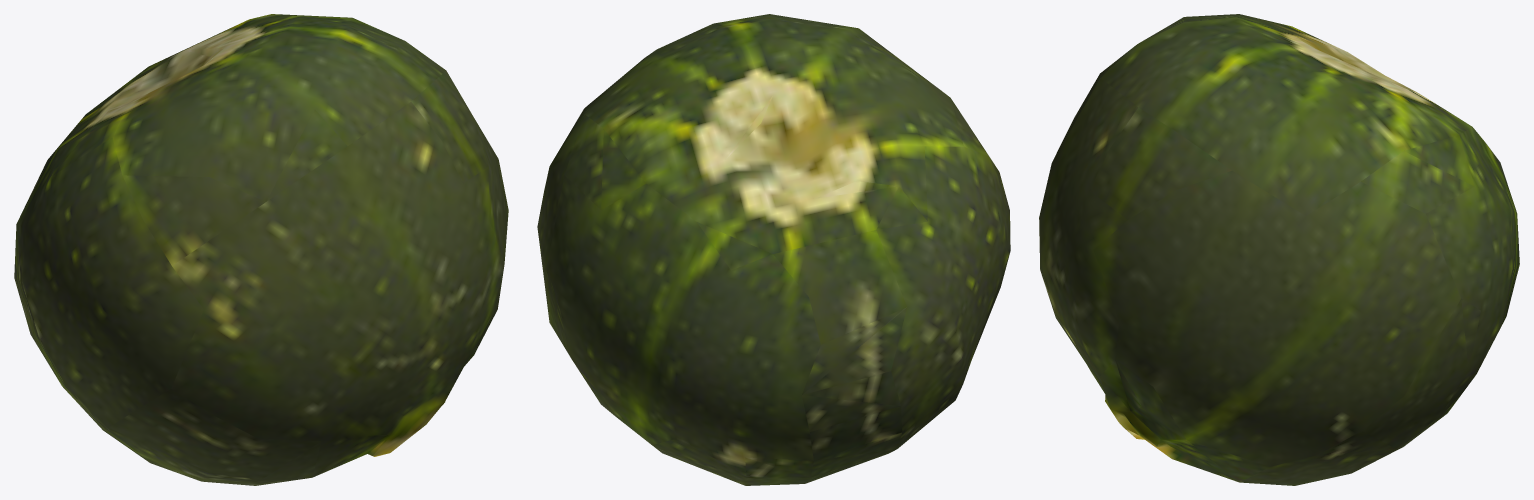
The model's file is SM_配餐室_水果蔬菜_23.fbx.
3 renders of one model, left to right at view 1: azimuth 30°, elevation 25°; view 2: azimuth 150°, elevation 25°; view 3: azimuth 270°, elevation 25°, orthographic. The views are drawn at different scales.
Visible parts, largest first — view 1: SM_配餐室_水果蔬菜_23; view 2: SM_配餐室_水果蔬菜_23; view 3: SM_配餐室_水果蔬菜_23.
Part boxes in pixels (box(x1,y1,x2,y2)): SM_配餐室_水果蔬菜_23: box(14, 14, 508, 485); SM_配餐室_水果蔬菜_23: box(537, 14, 1010, 485); SM_配餐室_水果蔬菜_23: box(1039, 14, 1519, 485).
Size of the model in its own units: 94.1 by 91.57 by 91.63.
